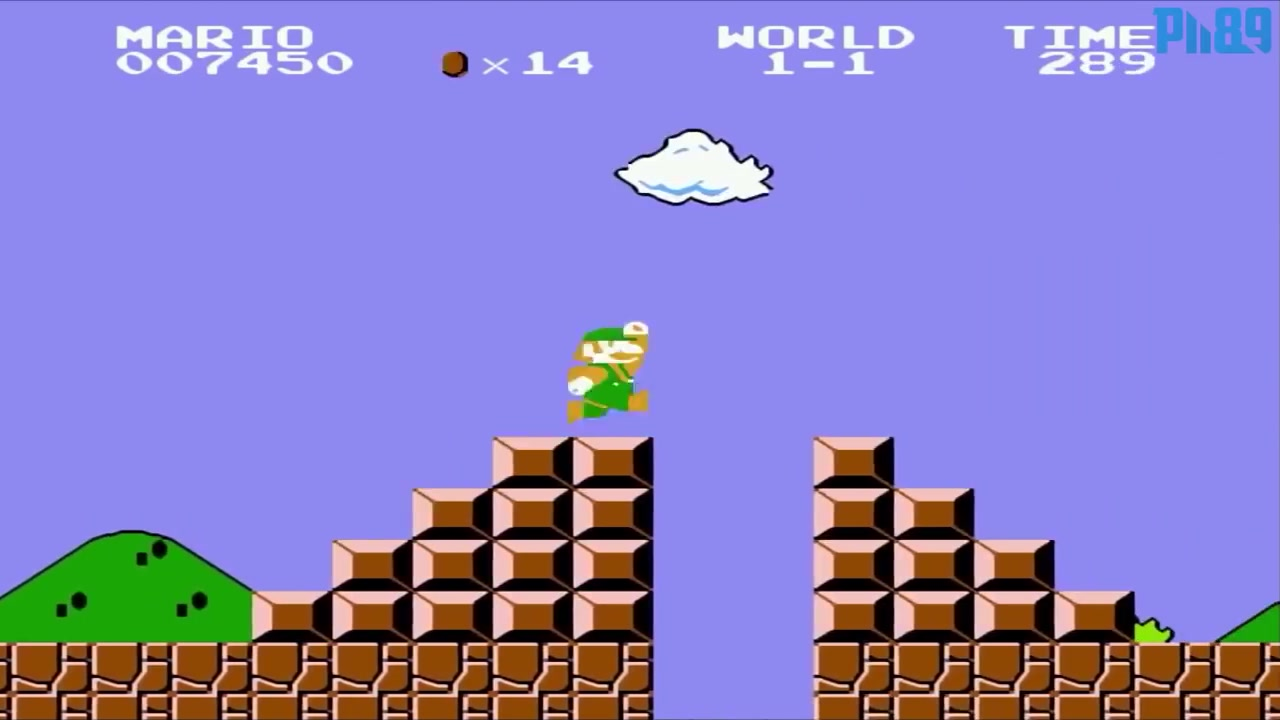mario: (556, 312, 659, 429)
